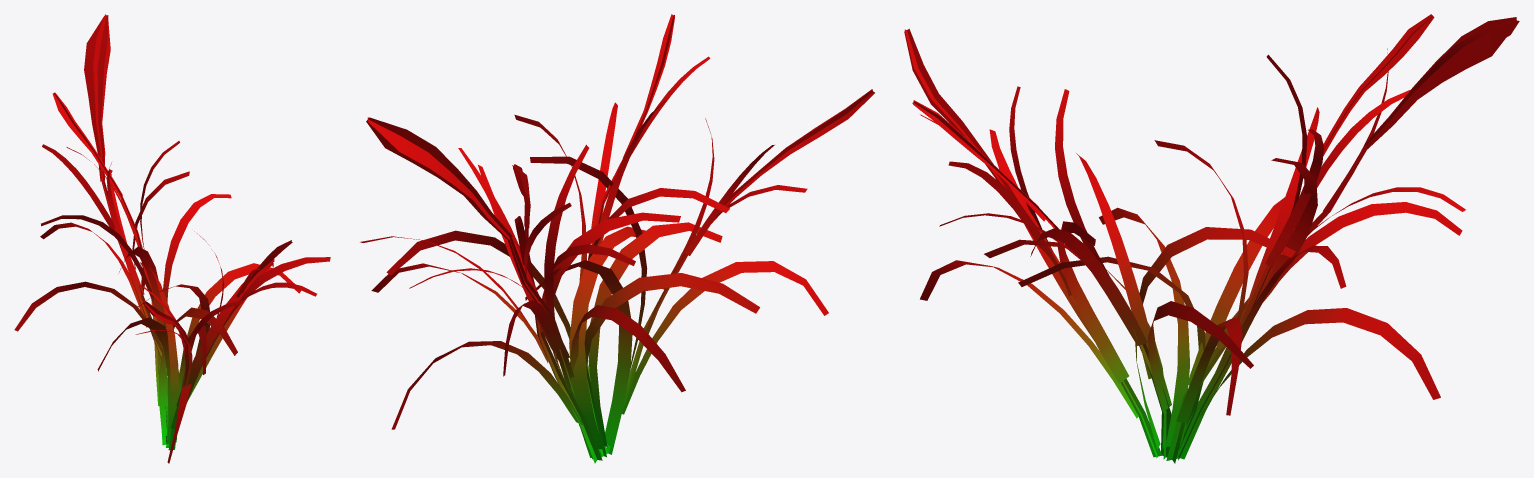
File: Great Brome_LOD2_Var1_tjugaikia.fbx
3 views of the same model, side by side, from view 1: azimuth 30°, elevation 25°; view 2: azimuth 150°, elevation 25°; view 3: azimuth 270°, elevation 25° (orthographic). The views are drawn at different scales.
Visible parts, largest first — view 1: _2830_Var1_LOD2; view 2: _2830_Var1_LOD2; view 3: _2830_Var1_LOD2.
Part boxes in pixels (x1,y1,x2,y2): _2830_Var1_LOD2: [14, 14, 330, 463]; _2830_Var1_LOD2: [360, 14, 874, 463]; _2830_Var1_LOD2: [904, 14, 1519, 463].
Size of the model in its own units: 68.36 by 80.51 by 93.14.
